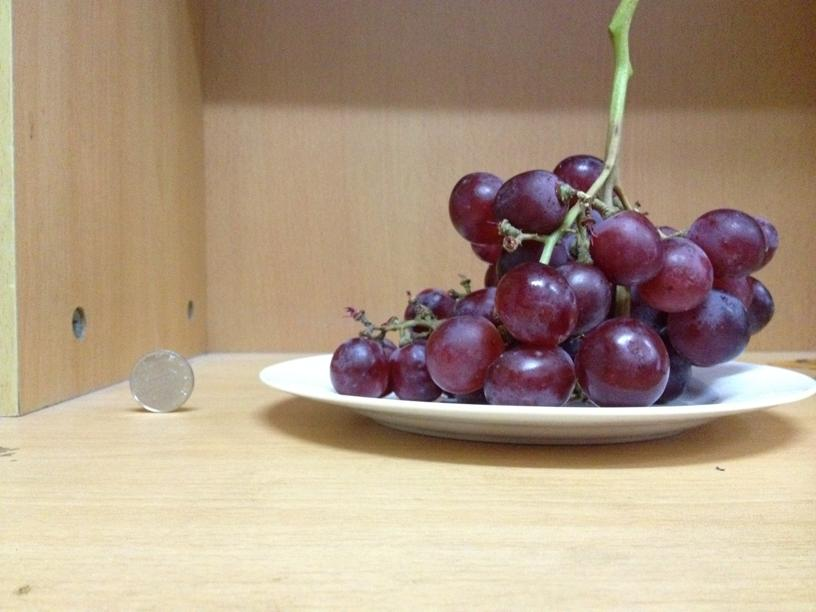coin: (127, 350, 194, 414)
grape: (329, 151, 777, 405)
